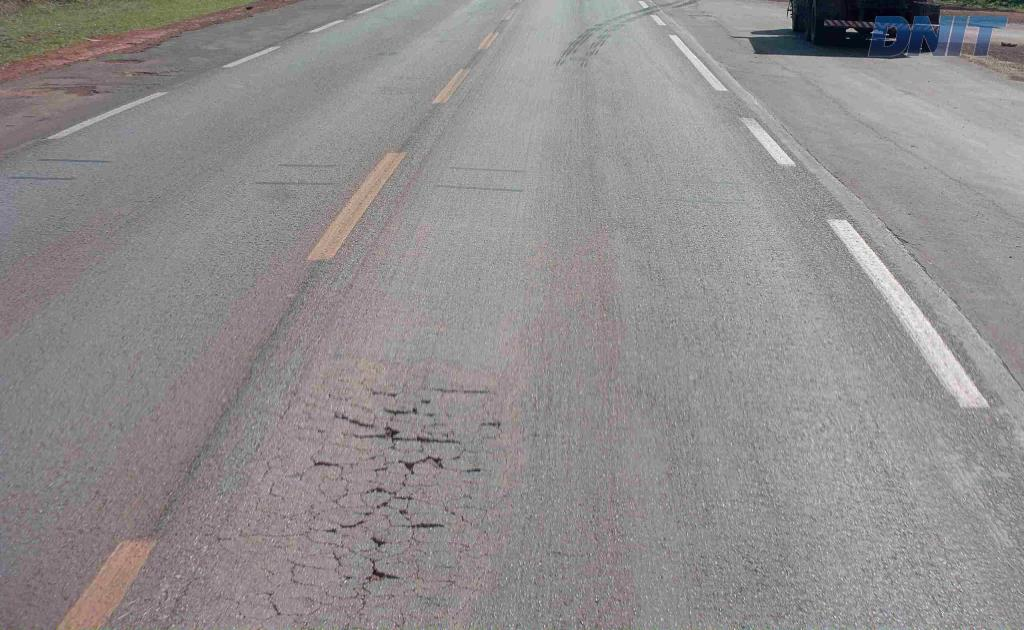crack: (353, 422, 460, 452)
